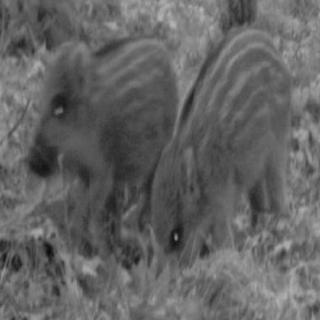Pig: (148, 10, 294, 264), (36, 18, 192, 246)
